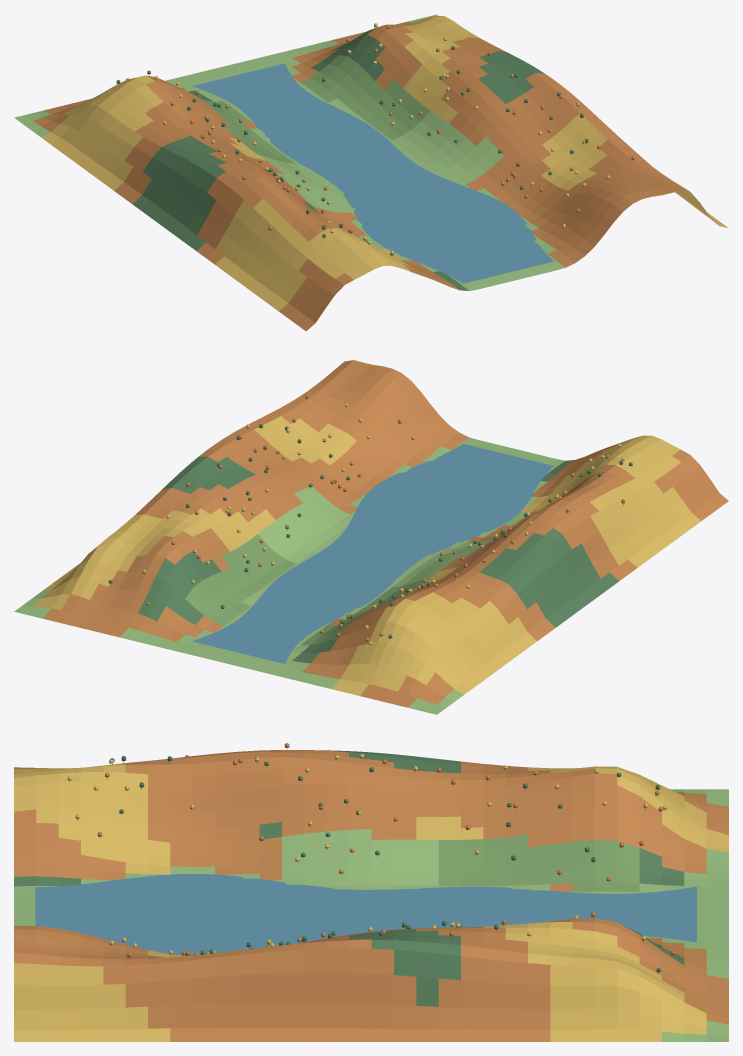
Rendered from finger_lakes.glb.
3 renders of one model, top to bottom at view 1: azimuth 30°, elevation 25°; view 2: azimuth 150°, elevation 25°; view 3: azimuth 270°, elevation 25°, orthographic. The views are drawn at different scales.
Parts seen in each view (by area): view 1: hills, lake, trees; view 2: hills, lake, trees; view 3: hills, lake, trees.
Boxes of the visible parts, bbox=[...] form: hills: bbox=[14, 14, 727, 331]; lake: bbox=[192, 63, 553, 283]; trees: bbox=[116, 23, 635, 255]; hills: bbox=[14, 360, 728, 714]; lake: bbox=[192, 444, 553, 663]; trees: bbox=[108, 394, 632, 644]; hills: bbox=[14, 750, 728, 1041]; lake: bbox=[35, 874, 696, 955]; trees: bbox=[67, 743, 675, 973].
Bounding box in the file's own units: 1120 × 157 × 1340.
